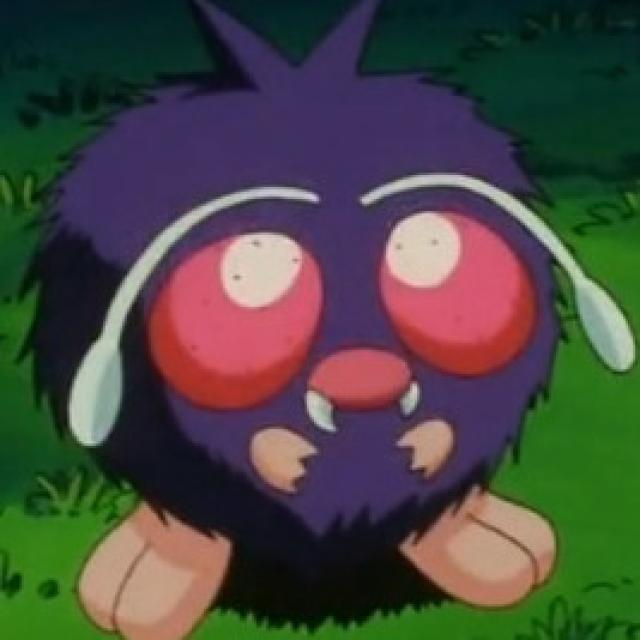Venonat: (53, 57, 570, 630)
